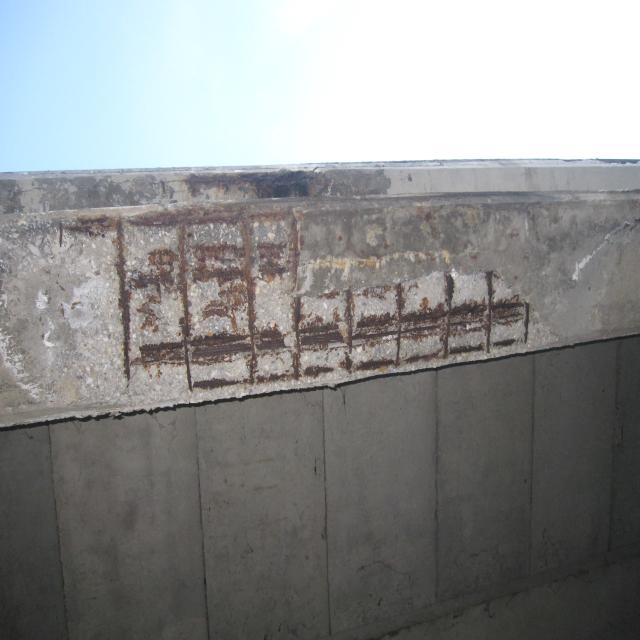corrosion: (58, 210, 534, 398)
